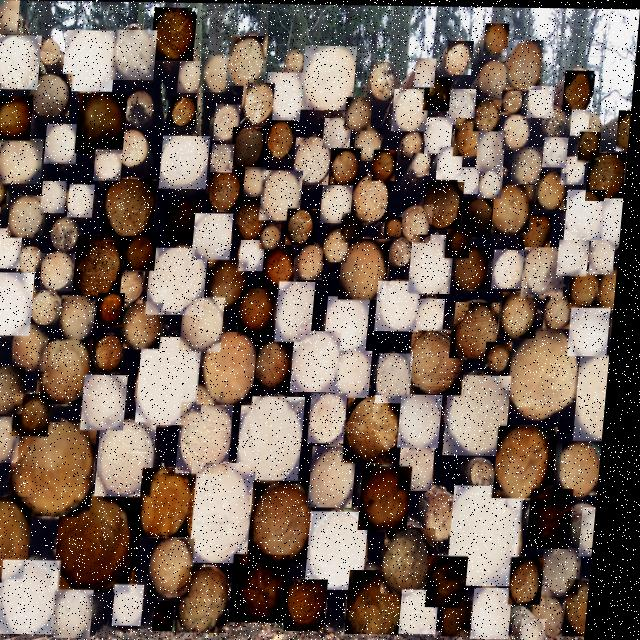wood-log: (64, 493, 153, 592), (16, 422, 106, 517), (457, 484, 534, 585), (511, 323, 589, 416), (194, 462, 265, 562), (143, 336, 214, 425), (243, 395, 313, 483), (257, 479, 323, 562), (451, 374, 518, 454), (316, 510, 379, 589), (502, 424, 566, 497), (9, 560, 72, 634), (103, 422, 165, 496), (204, 331, 264, 404), (151, 247, 213, 315), (147, 467, 206, 537), (240, 554, 300, 622), (351, 393, 410, 462), (184, 402, 241, 473), (414, 329, 475, 394), (356, 569, 416, 633), (43, 338, 100, 404), (186, 566, 242, 632), (391, 526, 446, 593), (104, 178, 161, 242), (302, 45, 358, 109), (0, 496, 42, 579), (367, 465, 421, 529), (78, 235, 130, 300), (63, 30, 118, 91), (77, 93, 130, 154), (343, 237, 395, 299), (297, 330, 347, 391), (581, 354, 616, 441), (317, 445, 365, 507), (158, 537, 205, 597), (413, 233, 460, 293), (536, 487, 583, 547), (162, 136, 213, 190), (458, 301, 506, 357), (88, 374, 135, 430), (330, 295, 376, 351), (0, 272, 40, 336), (151, 7, 198, 60), (280, 281, 321, 341), (405, 393, 450, 446), (186, 297, 230, 351), (0, 35, 43, 90), (567, 439, 610, 494), (380, 280, 427, 330), (295, 578, 339, 631), (113, 29, 158, 80), (526, 246, 571, 296), (263, 169, 306, 220), (496, 183, 539, 234), (436, 555, 479, 606), (482, 586, 524, 638), (425, 180, 468, 229), (227, 35, 269, 85), (568, 188, 609, 239), (1, 138, 46, 184), (126, 301, 170, 348), (211, 258, 253, 307), (574, 306, 616, 354), (551, 546, 592, 595), (315, 393, 355, 443), (29, 74, 74, 118), (65, 589, 105, 638), (508, 38, 547, 88), (196, 212, 237, 259), (589, 152, 629, 200), (266, 72, 306, 120), (356, 172, 395, 221), (260, 339, 299, 388), (382, 352, 420, 402), (295, 137, 335, 184), (340, 349, 379, 397), (505, 290, 544, 337), (410, 588, 450, 633), (244, 289, 282, 335), (18, 324, 55, 371), (519, 556, 555, 603), (20, 394, 59, 436), (11, 195, 49, 238), (407, 446, 444, 490), (65, 295, 102, 339), (393, 88, 431, 130), (168, 199, 204, 243), (211, 168, 248, 210), (0, 96, 35, 140), (0, 366, 32, 414), (232, 126, 268, 168), (460, 246, 495, 288), (574, 578, 600, 634), (45, 253, 82, 292), (243, 82, 276, 125), (265, 248, 300, 288), (240, 198, 274, 239), (523, 212, 557, 253), (47, 124, 81, 165), (0, 416, 29, 463), (564, 69, 597, 110), (123, 584, 155, 625), (496, 248, 529, 287), (465, 197, 498, 236), (478, 60, 512, 97), (97, 335, 130, 373), (456, 116, 488, 155), (573, 267, 604, 307), (324, 184, 356, 222), (539, 170, 571, 208), (405, 203, 437, 241), (289, 207, 321, 244), (562, 238, 594, 275), (514, 145, 545, 183), (479, 130, 508, 170), (128, 236, 162, 270), (204, 54, 234, 92), (268, 119, 297, 158), (333, 147, 364, 183), (448, 87, 478, 124), (421, 297, 451, 334), (549, 292, 580, 327), (0, 229, 27, 269), (454, 599, 484, 635), (301, 242, 330, 279), (120, 271, 153, 303), (101, 292, 131, 327), (605, 196, 627, 242), (427, 116, 455, 152), (215, 104, 243, 140), (446, 39, 475, 73), (505, 114, 534, 148), (346, 96, 375, 129), (356, 126, 384, 160), (425, 77, 453, 111), (97, 149, 126, 181), (528, 84, 556, 117), (491, 340, 519, 373), (602, 265, 622, 311), (439, 145, 466, 179), (593, 238, 620, 272), (475, 98, 503, 130), (71, 184, 98, 217), (325, 117, 354, 147), (171, 96, 199, 126), (243, 239, 270, 270), (484, 22, 510, 54), (45, 181, 71, 213), (327, 229, 353, 261), (545, 135, 571, 166), (589, 505, 605, 554), (449, 227, 475, 257), (375, 149, 400, 180), (0, 582, 13, 640), (179, 60, 202, 92), (246, 166, 270, 196), (345, 212, 369, 242), (580, 130, 603, 161), (481, 170, 507, 197), (460, 165, 485, 193), (564, 155, 589, 183), (0, 0, 20, 34), (213, 144, 237, 172), (164, 601, 186, 631), (403, 131, 426, 159), (415, 57, 437, 86), (618, 108, 633, 149), (532, 617, 558, 640), (502, 89, 524, 116), (264, 223, 286, 249), (572, 108, 592, 134), (414, 152, 434, 174), (388, 216, 406, 237), (0, 177, 12, 207), (0, 324, 4, 373), (0, 207, 5, 245), (0, 83, 2, 119)
